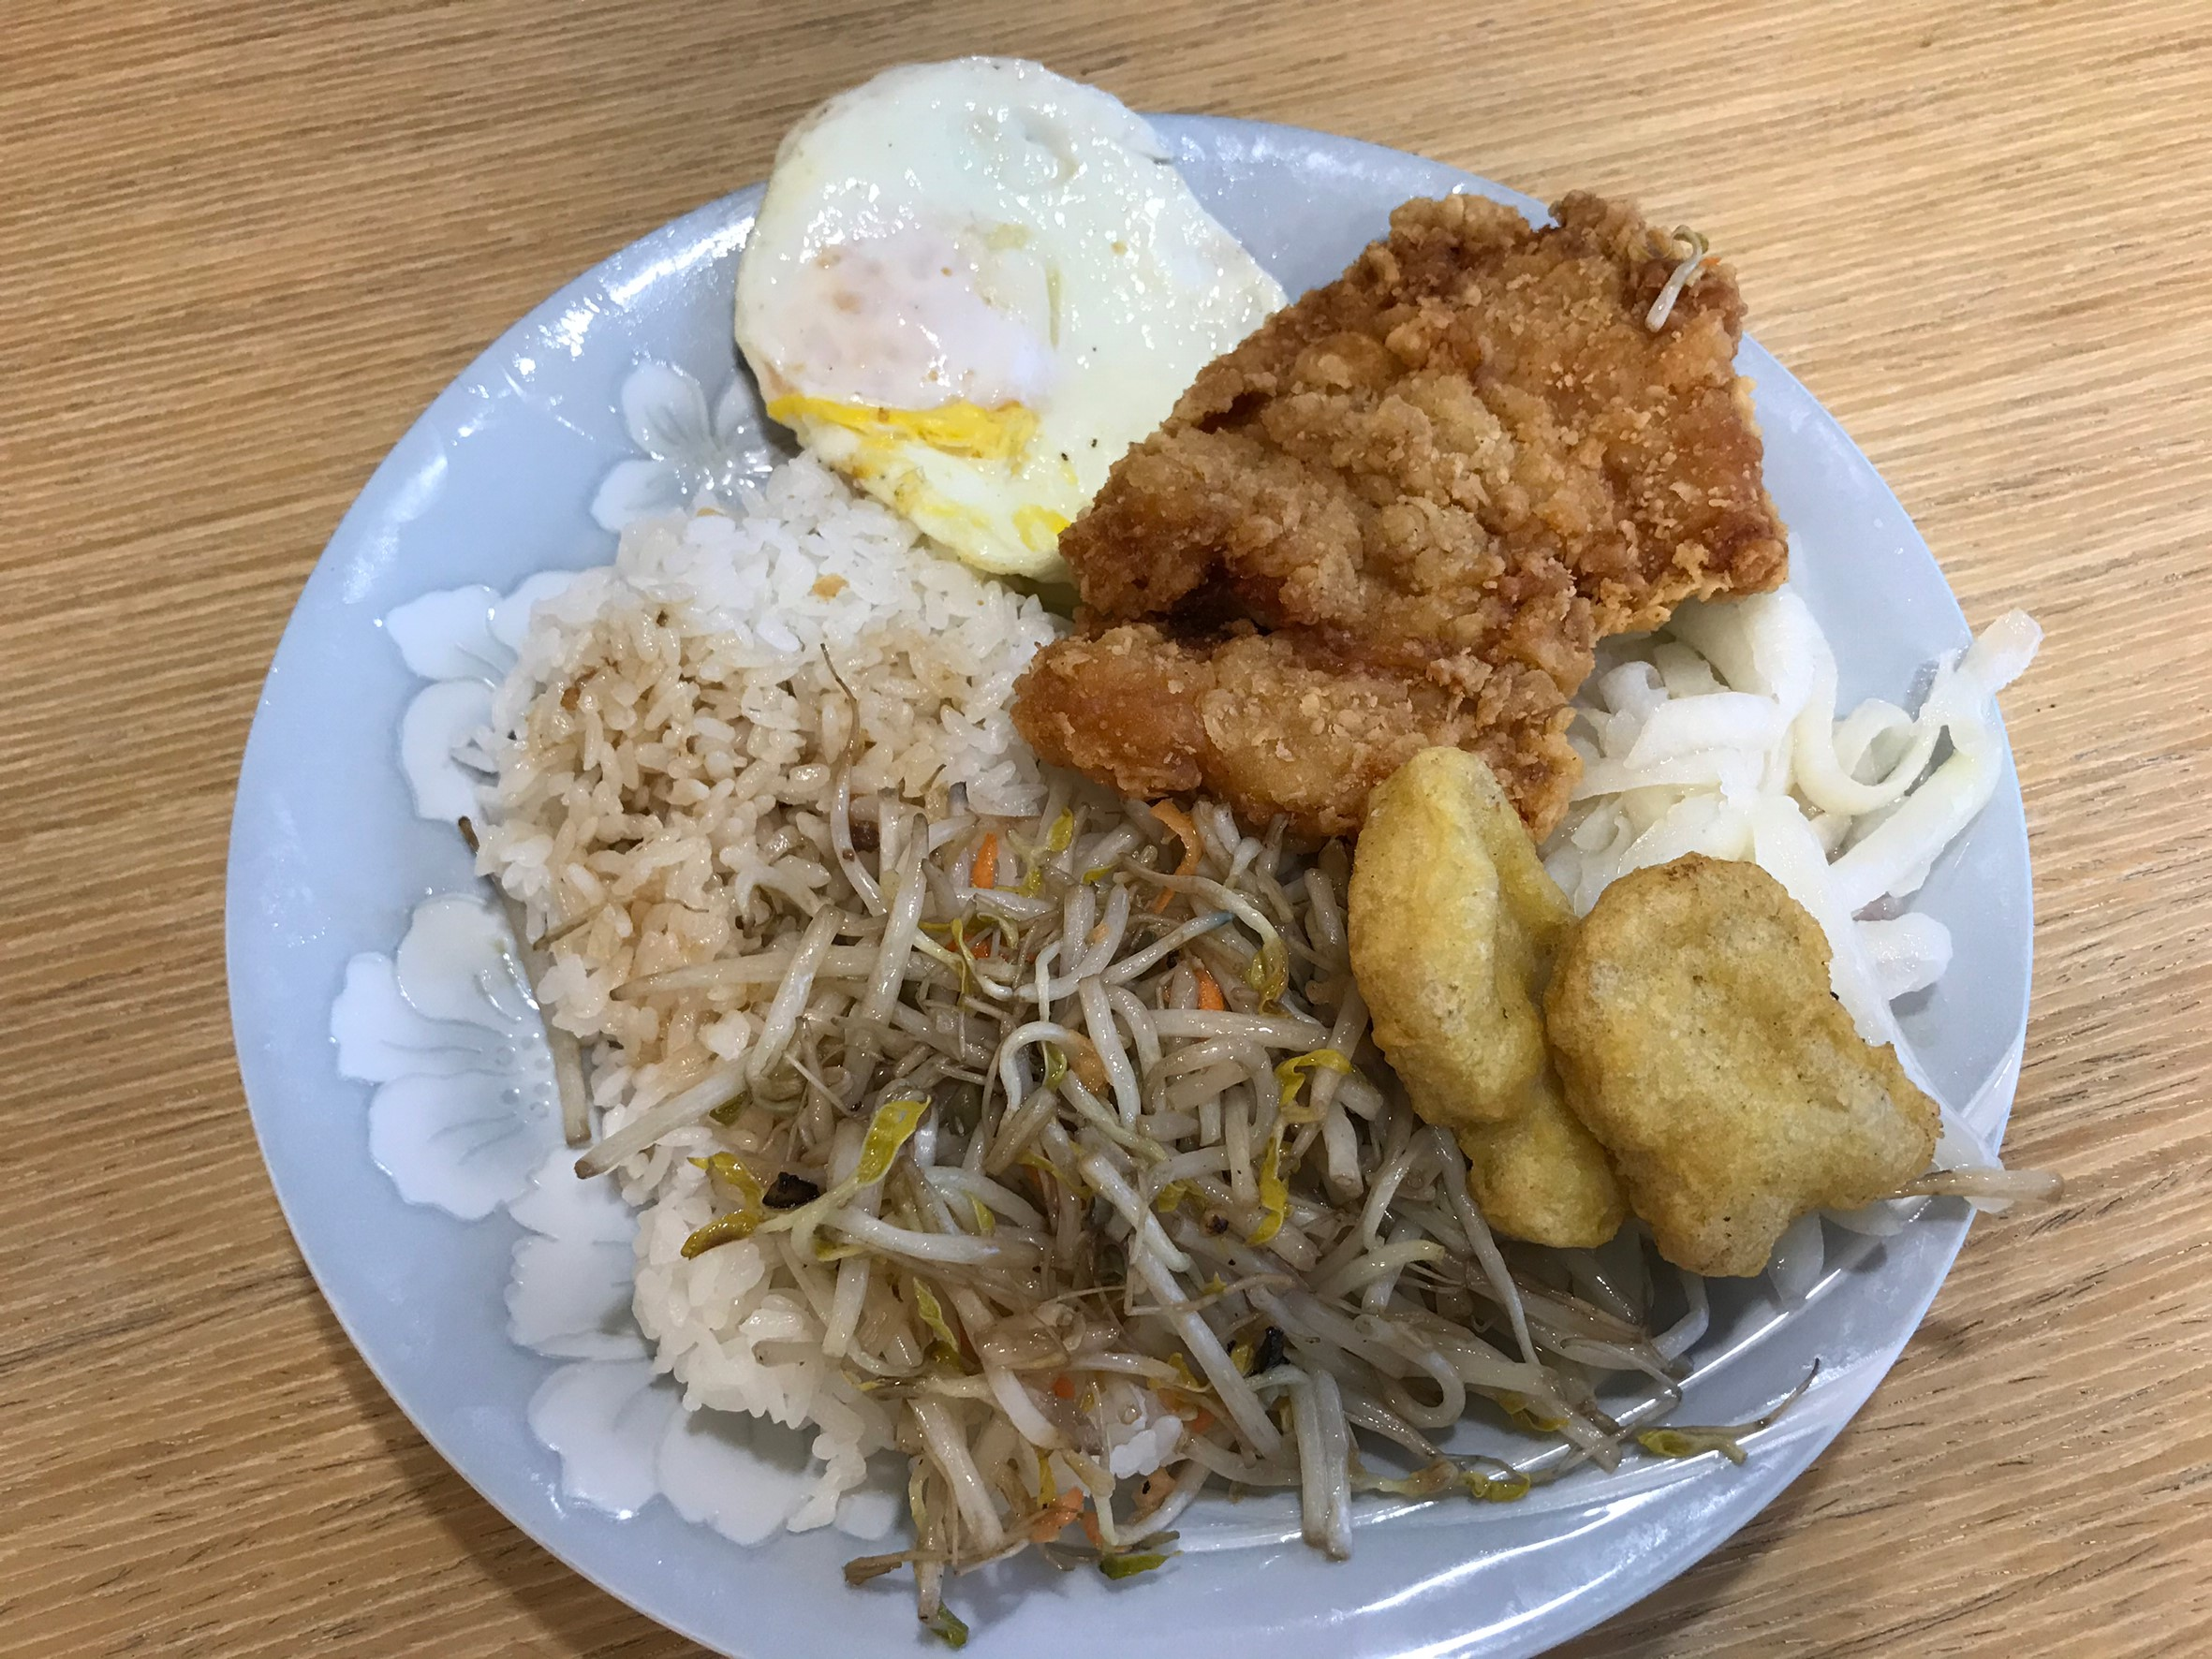chicken_nuggets: (1344, 748, 1945, 1270)
fried_chicken: (999, 200, 1766, 836)
fried_eggs: (751, 56, 1152, 535)
mung_bean_sprouts: (788, 910, 1433, 1527)
rice: (446, 509, 957, 939)
